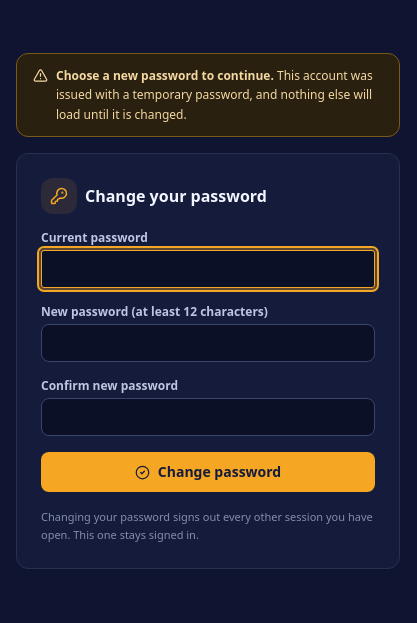
ChangePassword › reports a wrong current password without losing the session
Type "old-password-1" into the password field labelled "Current password" at point(208, 269), box [41,250,375,288]
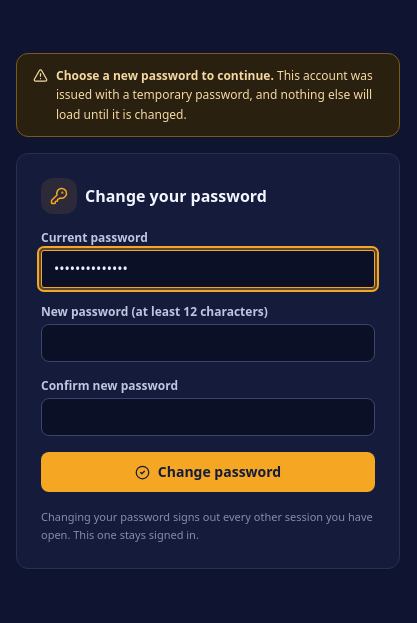
Type "a-brand-new-password" into the password field labelled "New password (at least 12 characters)" at point(208, 343), box [41,324,375,362]
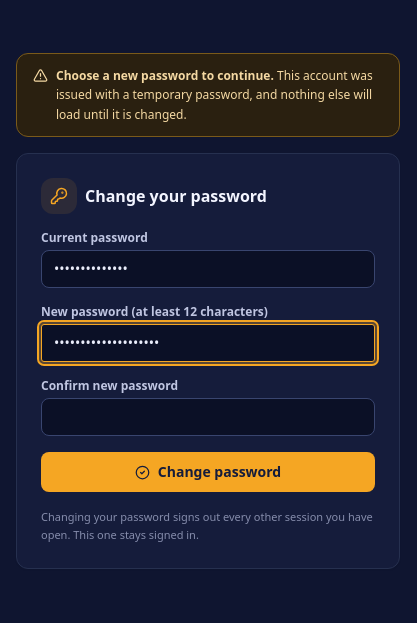
Type "a-brand-new-password" into the password field labelled "Confirm new password" at point(208, 417), box [41,398,375,436]
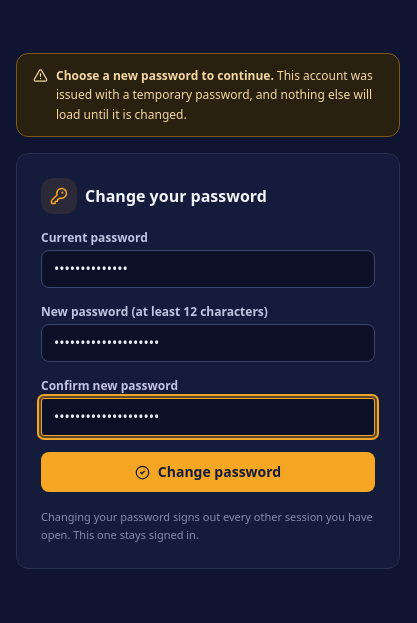
Click the button "Change password" at point(208, 472), box [41,452,375,492]
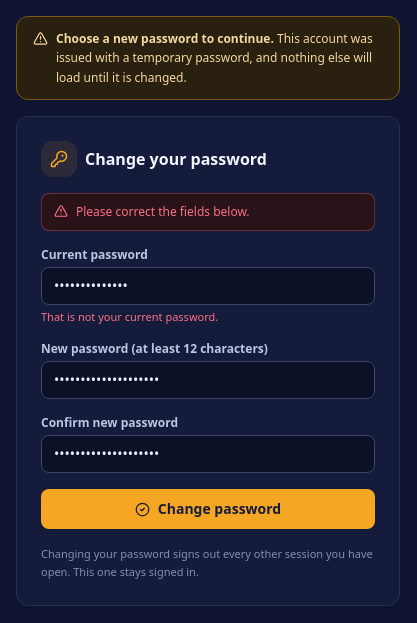
Check: the element with test id "change-password-error" is shown, box [41,193,375,231]
Check: the text "That is not your current password." is shown, box [41,309,218,324]
